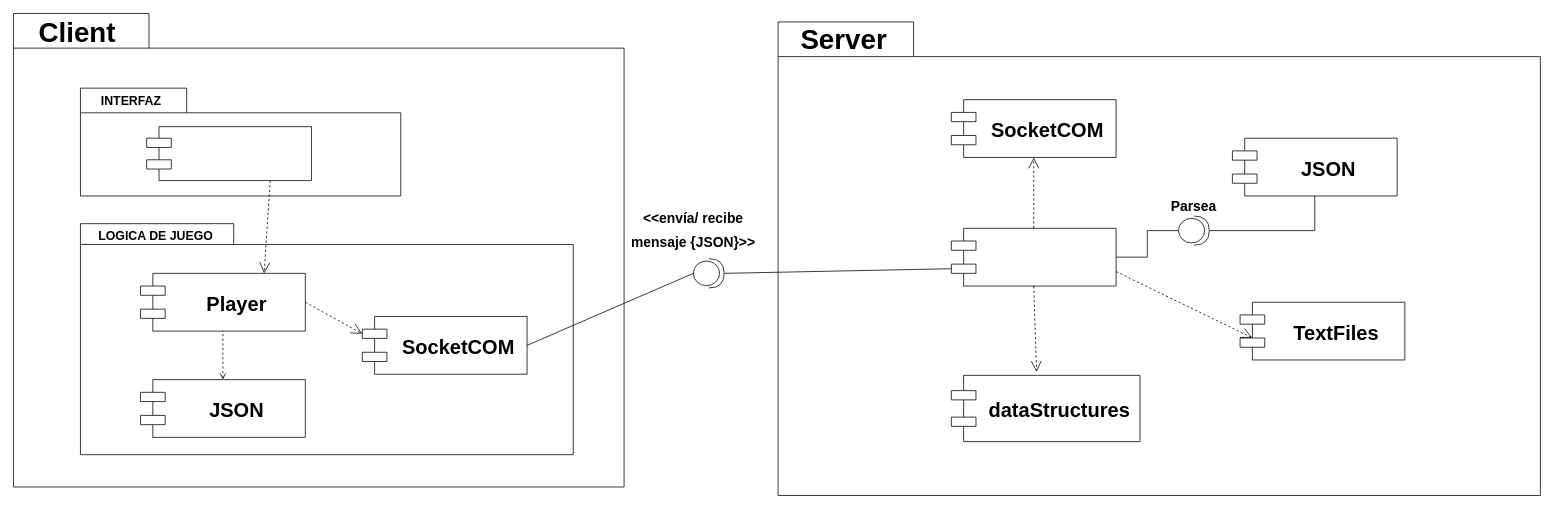
Some shapes in this 1554 by 509 pixel diagram are drawn without their labels. Here are the shapes that lost their labels. From the top down, the centre of each, then its label:
At (228,153): "Client_GUI".
At (1033,257): "GameLogic".
